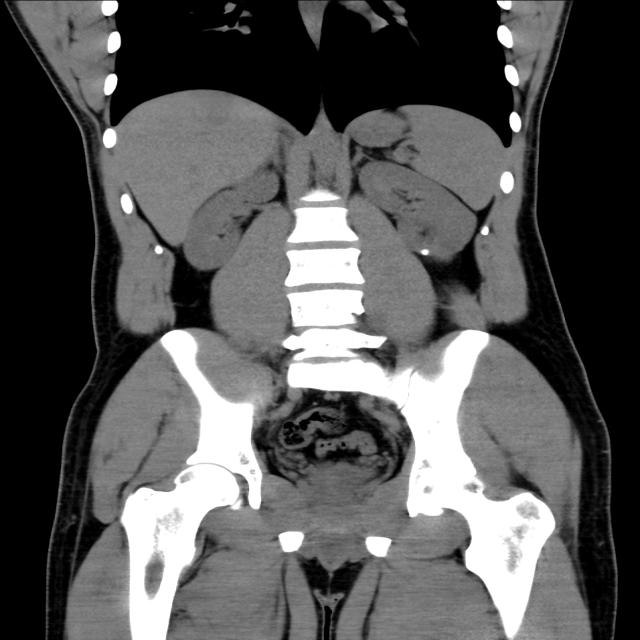kidneystone: (419, 249, 430, 255)
